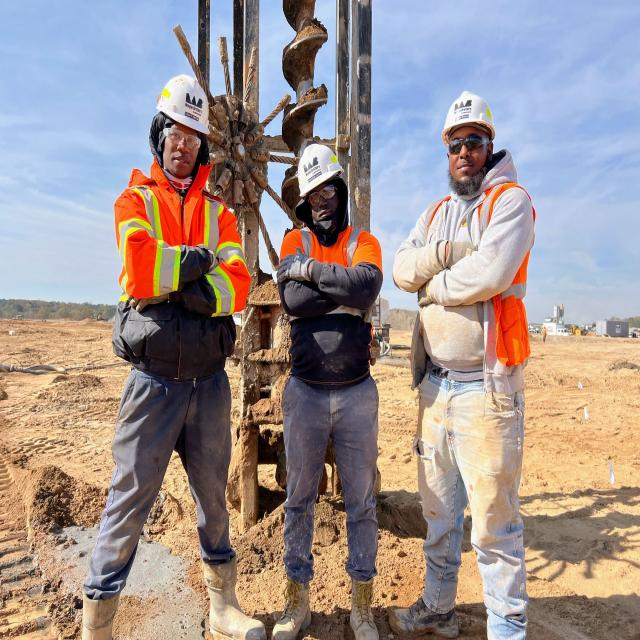Boots: (68, 551, 268, 640), (271, 564, 387, 640), (388, 599, 471, 640)
Hard Hat: (145, 67, 219, 135), (441, 88, 496, 147), (294, 138, 344, 196)
Reflective Vest: (114, 151, 254, 379), (405, 180, 538, 396), (274, 223, 389, 384)
Safety Glasses: (443, 132, 494, 156), (156, 128, 206, 151), (306, 182, 342, 206)
